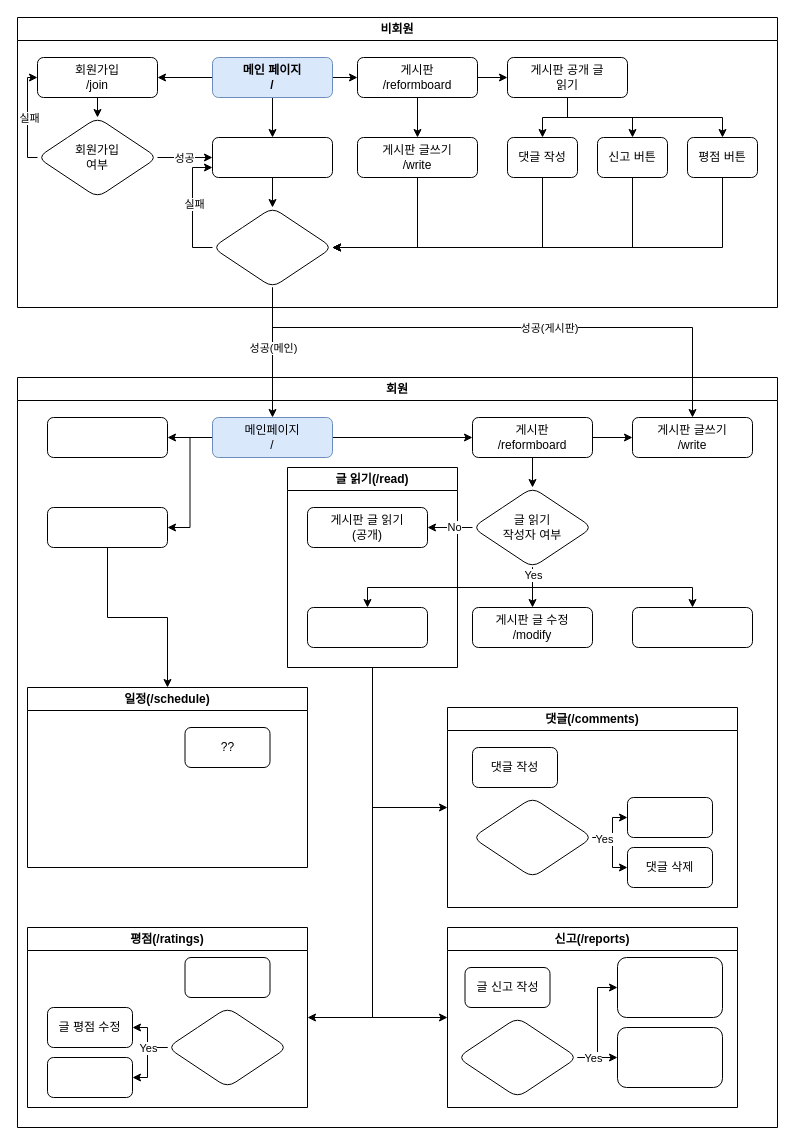
This 795x1145 diagram has some shape labels left out. Here are the shapes that lost their labels. From the top down, the centre of each, then its label:
At (x=272, y=157): "로그인 /login".
At (x=272, y=247): "로그인 여부".
At (x=107, y=437): "로그아웃 /logout".
At (x=107, y=527): "마이페이지 /mypage".
At (x=367, y=627): "게시판 글 읽기 (비공개)".
At (x=692, y=627): "게시판 글 삭제 /delete".
At (x=532, y=837): "댓글 작성자 여부".
At (x=669, y=817): "댓글 수정".
At (x=227, y=977): "글 평점 작성".
At (x=669, y=987): "글 신고 삭제 (관리자 확인 전)".
At (x=227, y=1047): "평점 작성자 여부".
At (x=517, y=1057): "신고 작성자 여부".
At (x=669, y=1057): "글 신고 삭제 불가 (관리자 확인 후)".
At (x=89, y=1077): "글 평점 삭제".
